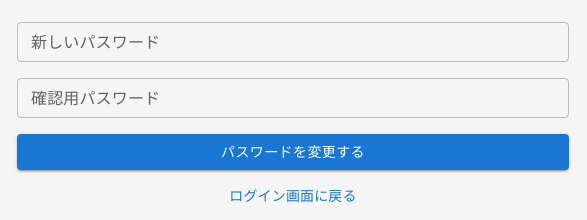
Test: PasswordResetPage › AUTH-FE-057: 成功後に PasswordResetComplete が表示される
Type "NewPass1!" into the password field labelled "新しいパスワード". click: (293, 42)
box: [17,22,569,62]
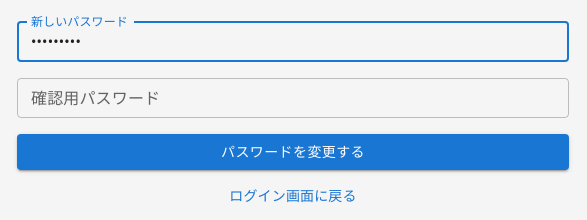
Type "NewPass1!" into the password field labelled "確認用パスワード". click: (293, 98)
box: [17,78,569,118]
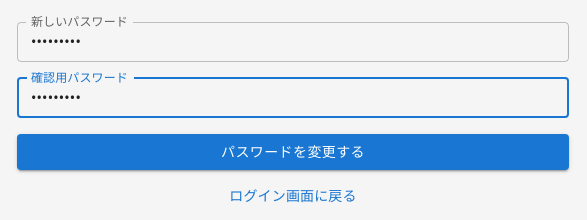
Click the button "パスワードを変更する". click: (293, 152)
box: [17,134,569,170]
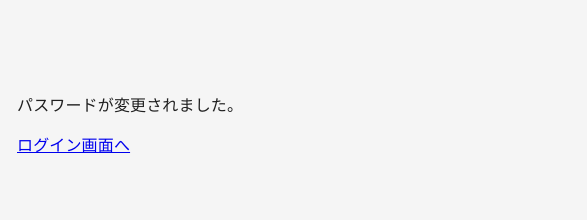
Check: the element with test id "password-reset-complete" is shown, box [17,96,243,155]
